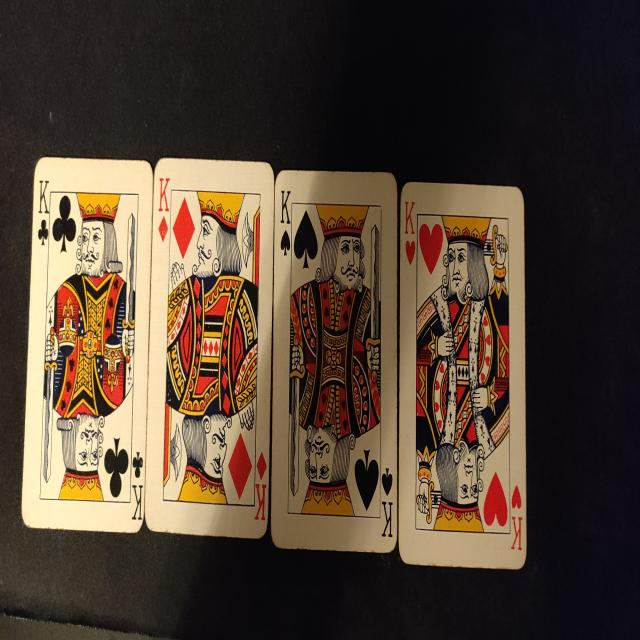Club: (104, 437, 129, 497), (52, 196, 76, 253), (133, 452, 143, 478), (38, 220, 48, 245)
Diamond: (228, 433, 252, 500), (172, 197, 195, 259), (256, 451, 267, 480), (159, 216, 168, 242)
Heart: (483, 472, 508, 527), (419, 224, 443, 275), (406, 241, 416, 265), (512, 484, 521, 509)
King: (254, 484, 266, 520), (132, 484, 143, 520), (511, 516, 522, 550), (159, 178, 170, 212), (382, 502, 392, 538), (39, 180, 49, 214), (405, 201, 415, 234), (280, 191, 290, 224)
Spade: (354, 449, 379, 511), (294, 210, 318, 269), (382, 468, 392, 496), (281, 230, 290, 256)
